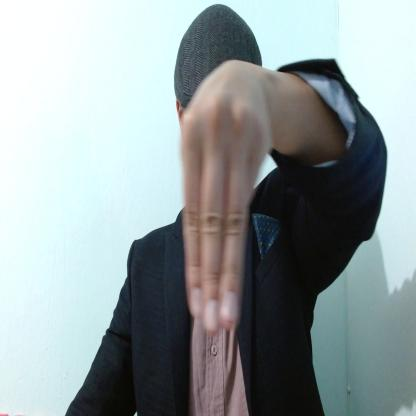M: (181, 60, 273, 335)
